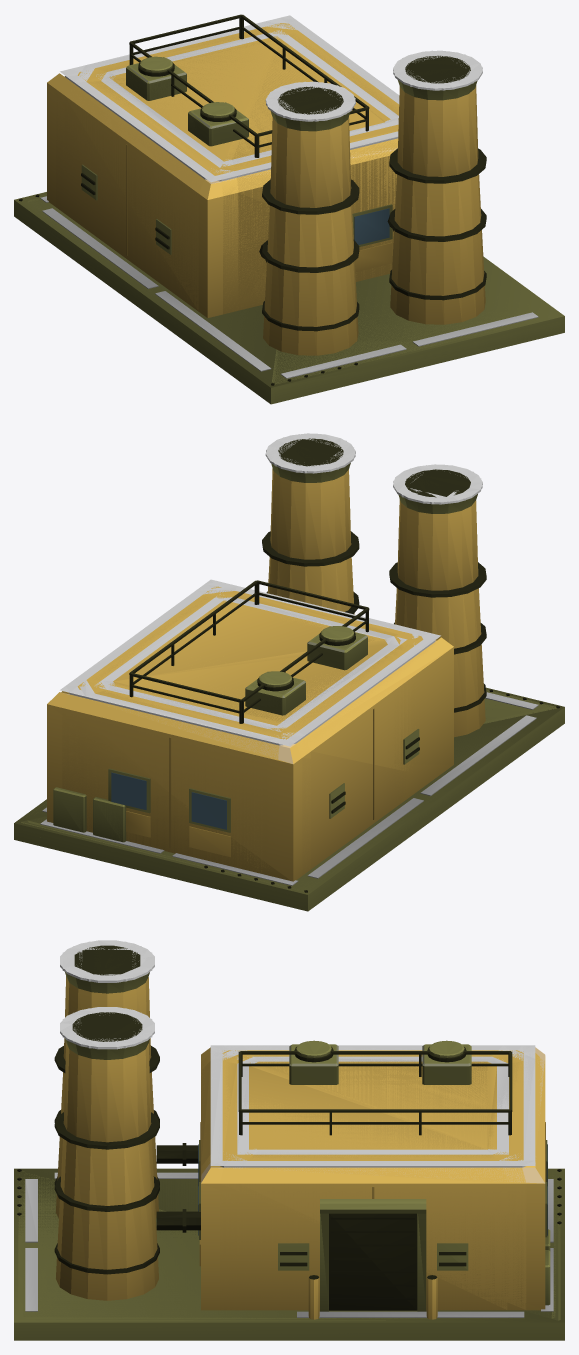
Rendered from meridian_power_plant.glb.
3 views of the same model, one above another, from view 1: azimuth 30°, elevation 25°; view 2: azimuth 150°, elevation 25°; view 3: azimuth 270°, elevation 25° (orthographic). The views are drawn at different scales.
Visible parts, largest first — view 1: body (×3); view 2: body (×3); view 3: body (×3).
Boxes of the visible parts, left/top/right/bottom form: body (×3): left=14, top=14, right=564, bottom=404; body (×3): left=14, top=433, right=564, bottom=911; body (×3): left=14, top=940, right=564, bottom=1340.
Bounding box in the file's own units: 7.4 × 6.05 × 11.2.
